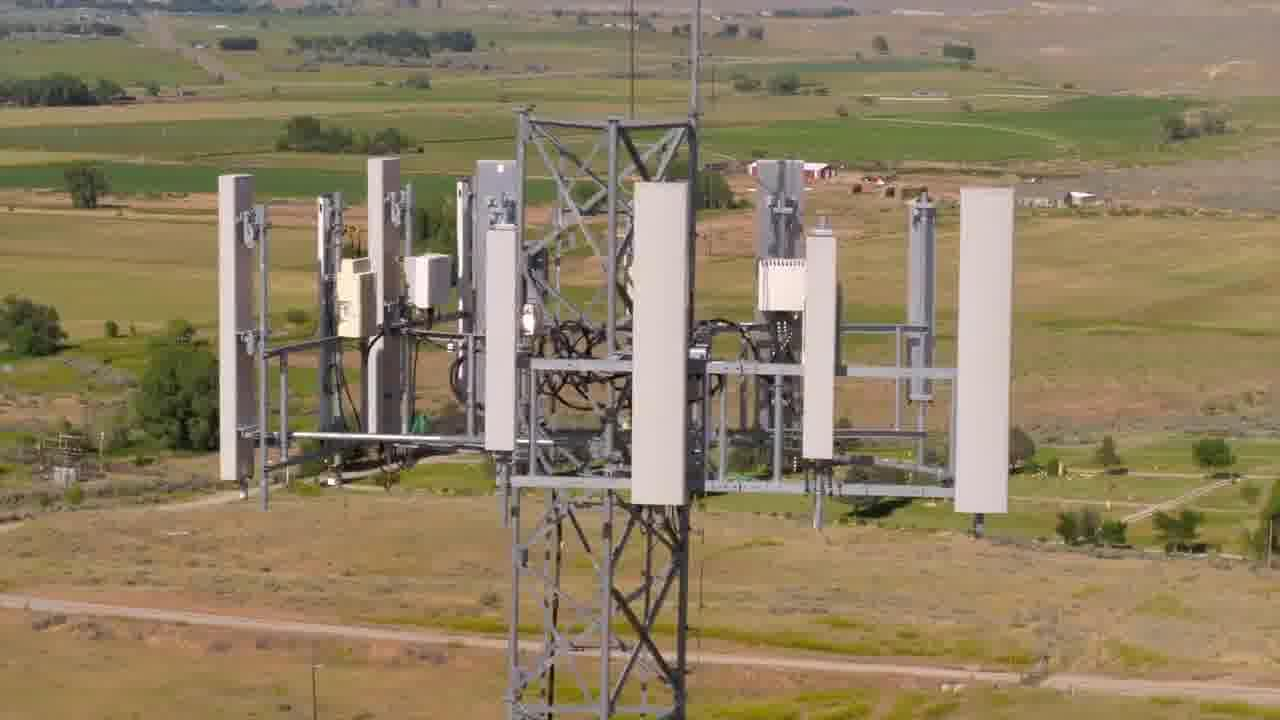antenna: (625, 168, 701, 519), (948, 174, 1022, 521), (354, 148, 418, 457), (213, 167, 270, 498), (480, 219, 535, 470), (799, 236, 849, 473), (907, 197, 939, 420)
